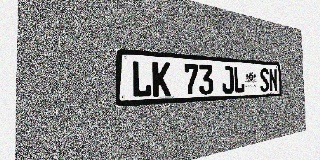3: (199, 64, 213, 95)
7: (183, 63, 199, 96)
J: (221, 66, 234, 94)
K: (152, 62, 171, 97)
L: (131, 60, 152, 98), (233, 66, 245, 93)
N: (269, 68, 278, 92)
S: (260, 68, 269, 92)
